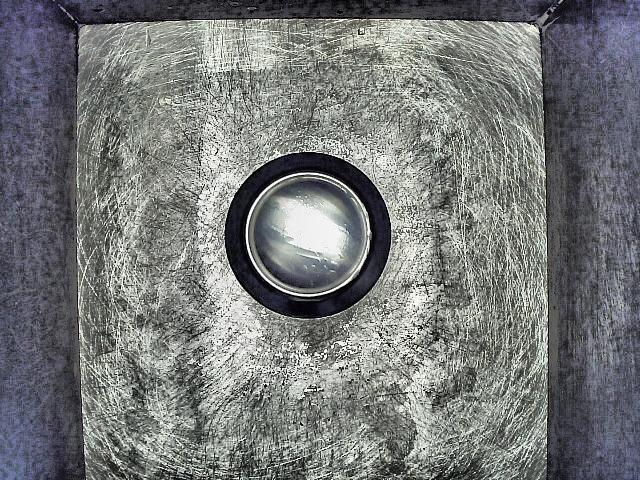Bottles: (209, 150, 403, 322)
